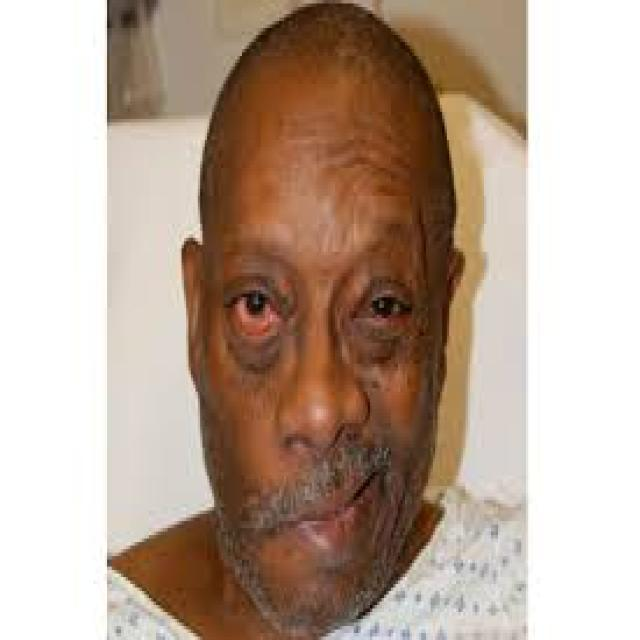stroke_face: (199, 29, 442, 622)
